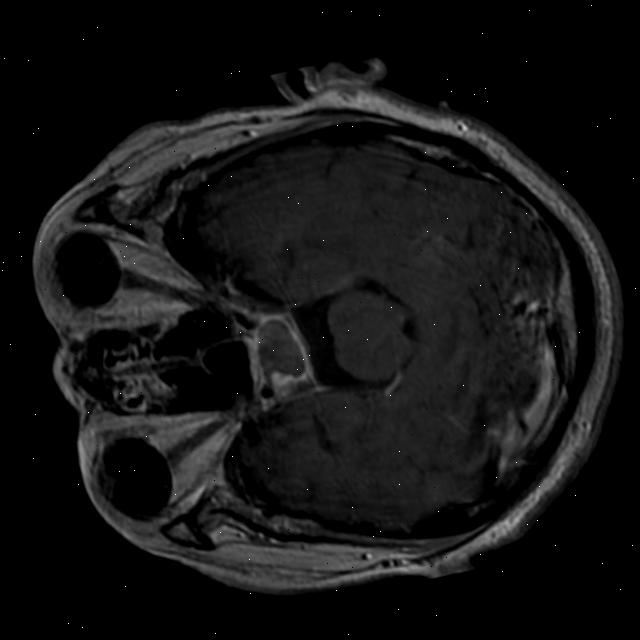Pituitary: (244, 312, 311, 389)
